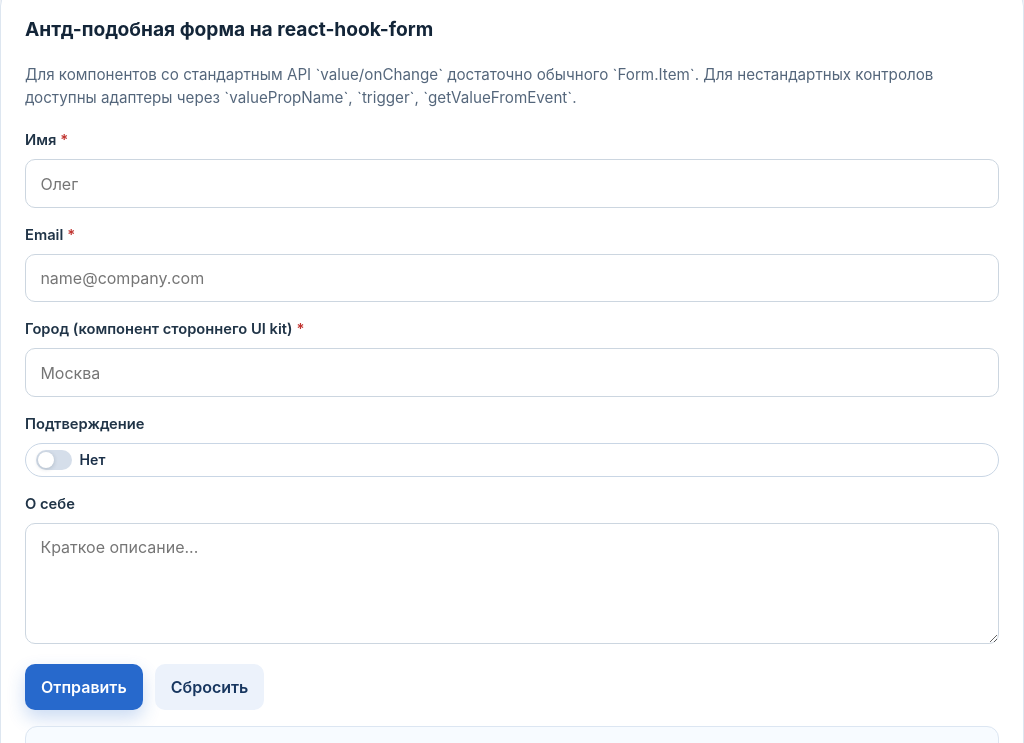
ProfileFormWidget › показывает live summary при изменении полей
This screenshot has width=1024, height=743.
In the field with placeholder "Олег": point(512, 184) [25,160,999,208], type "Иван"
(page scrolled)
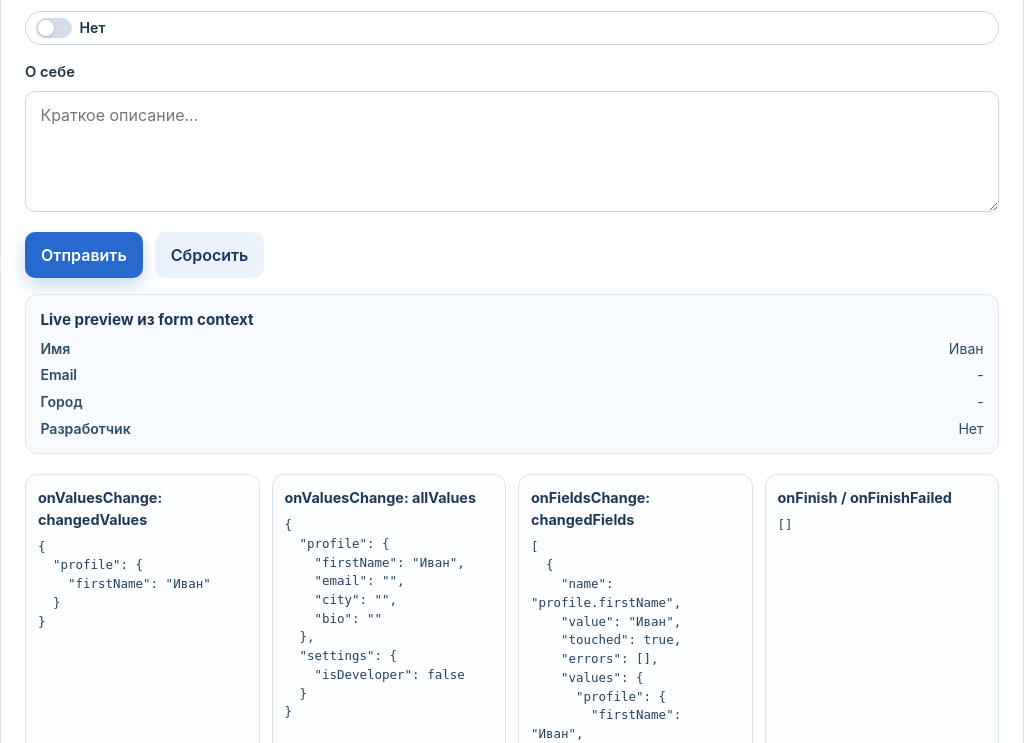
Expected: the text "Live preview из form context" is shown, [40,310,254,329]
Now the text "Live preview из form context" shows "Иван", box [949,340,984,357]
